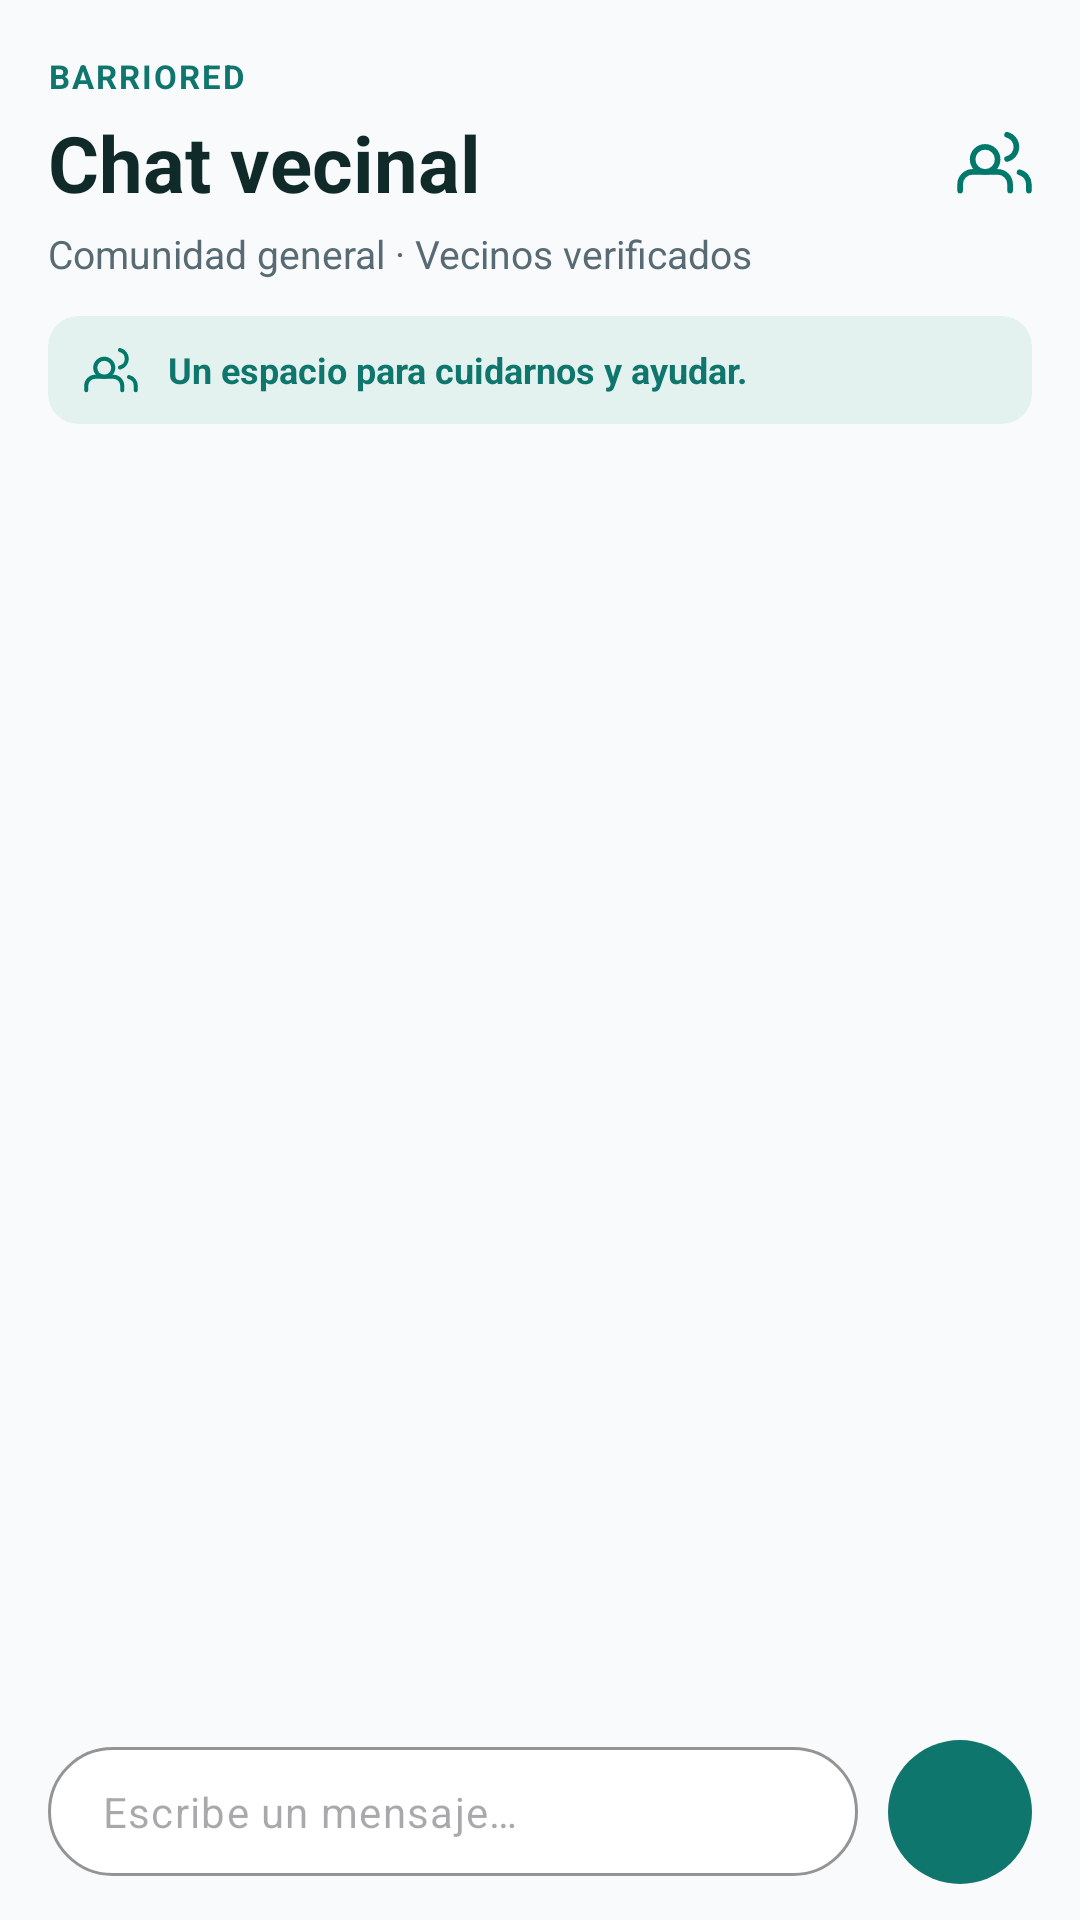

Named icons in this screenshot (1080 x 1920) and their centers, (x=x, y=y):
Comunidad: (x=994, y=163)
Convivencia: (x=111, y=370)
